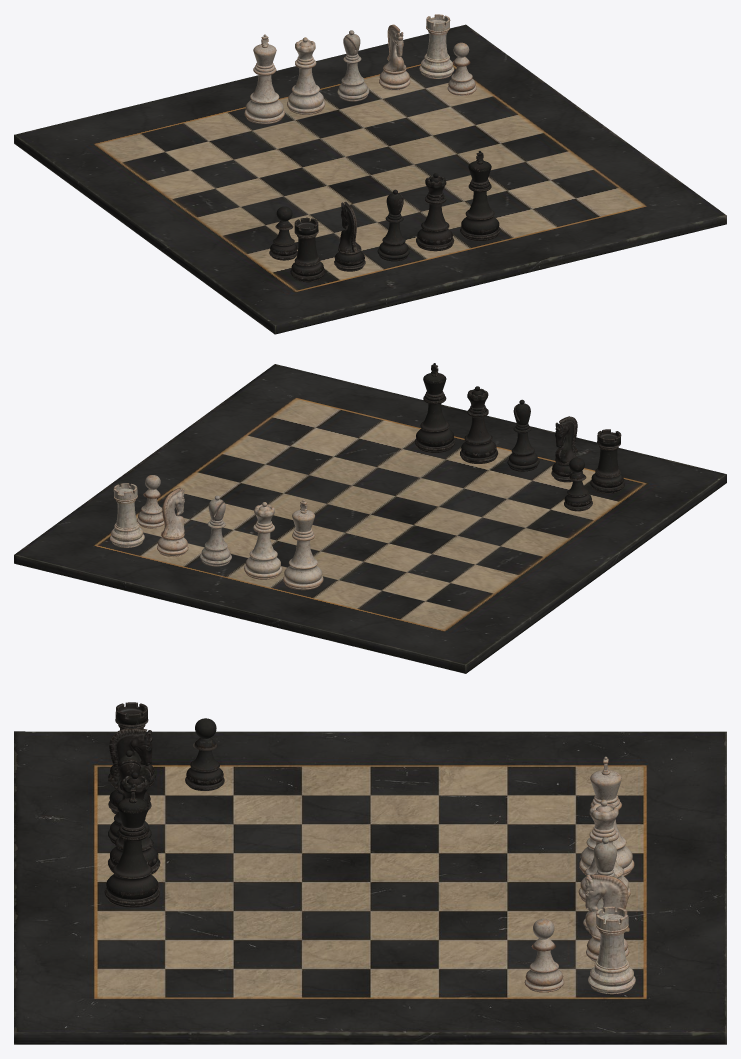
File: chess_set_opt.glb
3 renders of one model, top to bottom at view 1: azimuth 30°, elevation 25°; view 2: azimuth 150°, elevation 25°; view 3: azimuth 270°, elevation 25°, orthographic. The views are drawn at different scales.
Visible parts, largest first — view 1: Chess_board, Piece_06, Piece_06.001, Piece_05.001, Piece_05, Piece_02.002, Piece_02, Piece_03.002, Piece_04.002, Piece_04, Piece_03, Piece_01.008 (+1 smaller); view 2: Chess_board, Piece_06, Piece_06.001, Piece_05, Piece_05.001, Piece_02, Piece_02.002, Piece_03, Piece_04.002, Piece_04, Piece_03.002, Piece_01.008 (+1 smaller); view 3: Chess_board, Piece_06.001, Piece_02, Piece_03, Piece_06, Piece_03.002, Piece_01, Piece_01.008, Piece_05, Piece_05.001, Piece_02.002, Piece_04.002 (+1 smaller).
Boxes of the visible parts, x1,y1,x2,y2 form: Chess_board: (14, 24, 726, 334); Piece_06: (244, 34, 284, 124); Piece_06.001: (460, 151, 500, 240); Piece_05.001: (416, 173, 454, 251); Piece_05: (287, 37, 325, 114); Piece_02.002: (290, 217, 325, 282); Piece_02: (419, 14, 454, 78); Piece_03.002: (334, 201, 365, 271); Piece_04.002: (377, 189, 409, 261); Piece_04: (337, 30, 369, 101); Piece_03: (379, 24, 410, 90); Piece_01.008: (269, 206, 297, 260); Chess_board: (14, 364, 726, 673); Piece_06: (283, 500, 323, 590); Piece_06.001: (415, 363, 455, 452); Piece_05: (244, 502, 282, 579); Piece_05.001: (460, 386, 498, 463); Piece_02: (110, 483, 144, 547); Piece_02.002: (590, 429, 624, 493); Piece_03: (157, 487, 188, 556); Piece_04.002: (507, 399, 539, 471); Piece_04: (200, 495, 231, 566); Piece_03.002: (551, 416, 582, 482); Piece_01.008: (564, 457, 592, 511); Chess_board: (14, 731, 726, 1044); Piece_06.001: (104, 784, 159, 907); Piece_02: (588, 906, 635, 994); Piece_03: (585, 874, 629, 961); Piece_06: (579, 756, 634, 876); Piece_03.002: (108, 728, 152, 814); Piece_01: (524, 918, 564, 992); Piece_01.008: (185, 718, 224, 790); Piece_05: (578, 799, 630, 902); Piece_05.001: (108, 772, 160, 874); Piece_02.002: (108, 702, 155, 786); Piece_04.002: (108, 750, 151, 843).
Size of the model in its own units: 2 by 0.3848 by 2.
3 materials, 3 textured.
